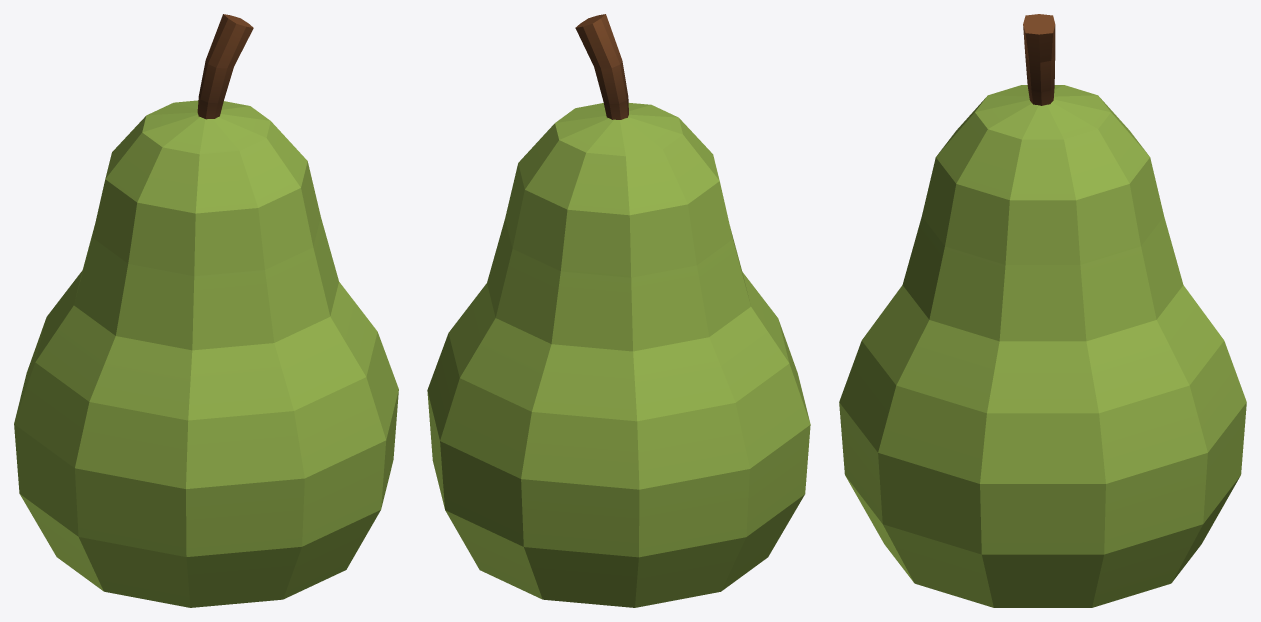
The model's file is pear_1a.glb.
The picture shows the model from 3 angles, left to right: view 1: azimuth 30°, elevation 25°; view 2: azimuth 150°, elevation 25°; view 3: azimuth 270°, elevation 25°; orthographic projection. The views are drawn at different scales.
Visible parts, largest first — view 1: pear_1a; view 2: pear_1a; view 3: pear_1a.
Part boxes in pixels (<box>): pear_1a: <box>14,14,398,607</box>; pear_1a: <box>427,14,810,607</box>; pear_1a: <box>839,14,1246,607</box>.
Bounding box in the file's own units: 0.0757 × 0.1207 × 0.0796.
Materials: 1 (1 with a texture image).
